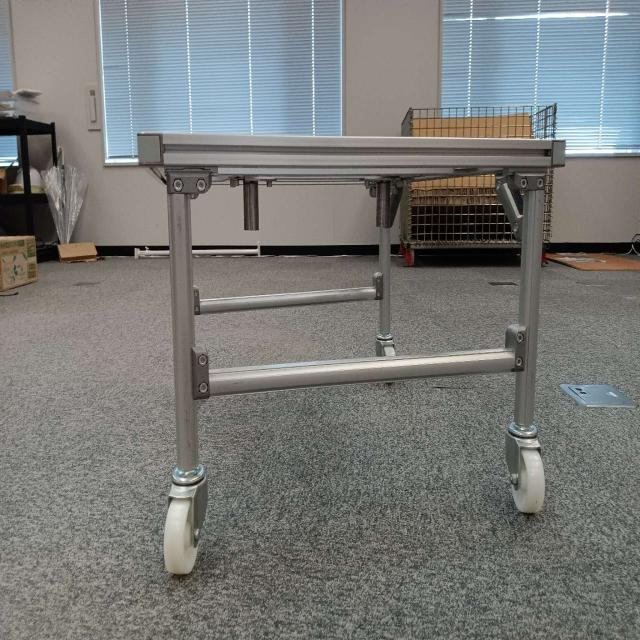box: (3, 236, 39, 292)
side: (167, 127, 538, 389)
